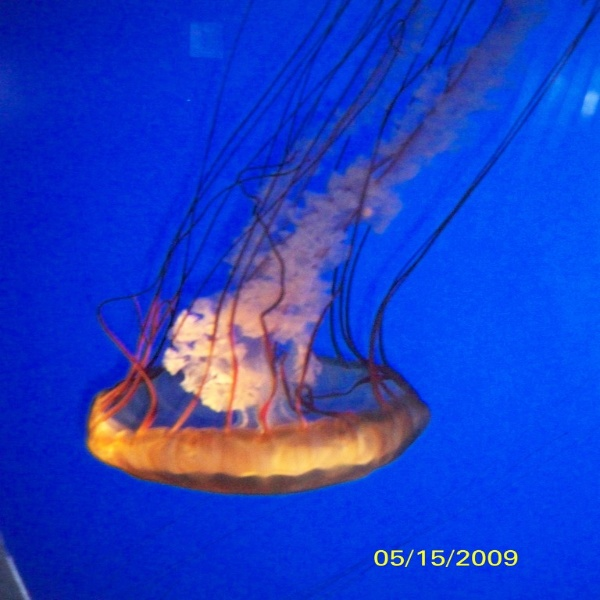Jellyfish: (81, 0, 599, 497)
